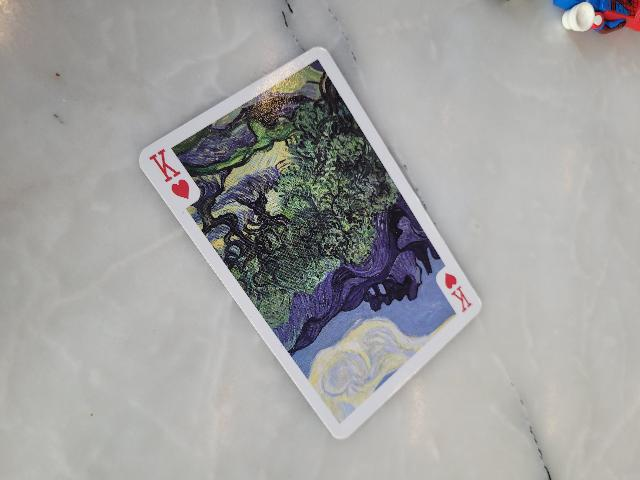Kagit: (139, 40, 487, 447)
